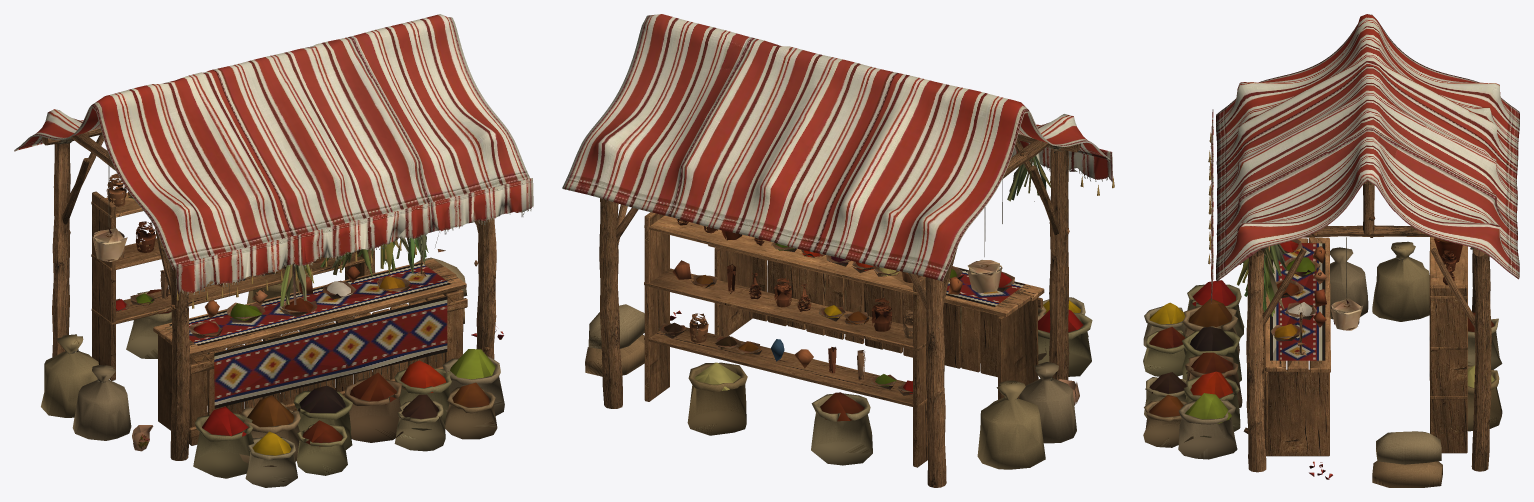
File: village-kiosk-1-v5-lite.glb
The picture shows the model from 3 angles, left to right: view 1: azimuth 30°, elevation 25°; view 2: azimuth 150°, elevation 25°; view 3: azimuth 270°, elevation 25°; orthographic projection. The views are drawn at different scales.
Visible parts, largest first — view 1: K1_Cloth, K1_Props, K1_Sack, K1_Wood, K1_Bark; view 2: K1_Cloth, K1_Wood, K1_Sack, K1_Bark, K1_Props; view 3: K1_Cloth, K1_Sack, K1_Props, K1_Wood, K1_Bark.
Part boxes in pixels (<box>): K1_Cloth: <box>14,14,533,294</box>; K1_Props: <box>56,137,503,455</box>; K1_Sack: <box>41,257,504,487</box>; K1_Wood: <box>91,191,467,445</box>; K1_Bark: <box>42,128,496,460</box>; K1_Cloth: <box>562,14,1112,281</box>; K1_Wood: <box>644,212,1044,467</box>; K1_Sack: <box>585,274,1092,469</box>; K1_Bark: <box>599,134,1080,487</box>; K1_Props: <box>643,144,1114,421</box>; K1_Cloth: <box>1210,14,1519,303</box>; K1_Sack: <box>1143,241,1502,487</box>; K1_Props: <box>1149,132,1494,479</box>; K1_Wood: <box>1262,237,1467,456</box>; K1_Bark: <box>1243,180,1491,472</box>.
Size of the model in its own units: 4.11 by 3.04 by 3.39.
Materials: 5 (5 with a texture image).
